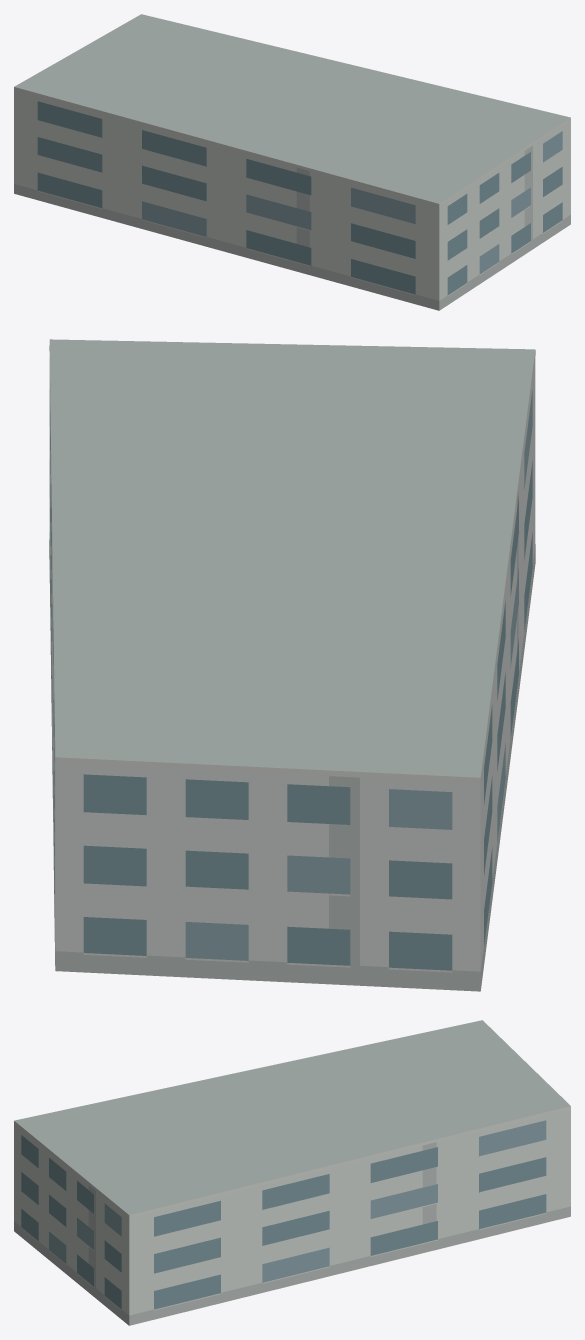
Rendered from survey-upis-32775085.glb.
The picture shows the model from 3 angles, top to bottom: view 1: azimuth 30°, elevation 25°; view 2: azimuth 150°, elevation 25°; view 3: azimuth 270°, elevation 25°; orthographic projection. The views are drawn at different scales.
Visible parts, largest first — view 1: survey-upis-32775085.tmp; view 2: survey-upis-32775085.tmp; view 3: survey-upis-32775085.tmp.
Part boxes in pixels (x1,y1,x2,y2): survey-upis-32775085.tmp: [14, 14, 570, 310]; survey-upis-32775085.tmp: [49, 339, 535, 991]; survey-upis-32775085.tmp: [14, 1020, 570, 1325].
Bounding box in the file's own units: 34.6 × 9.15 × 41.74.
